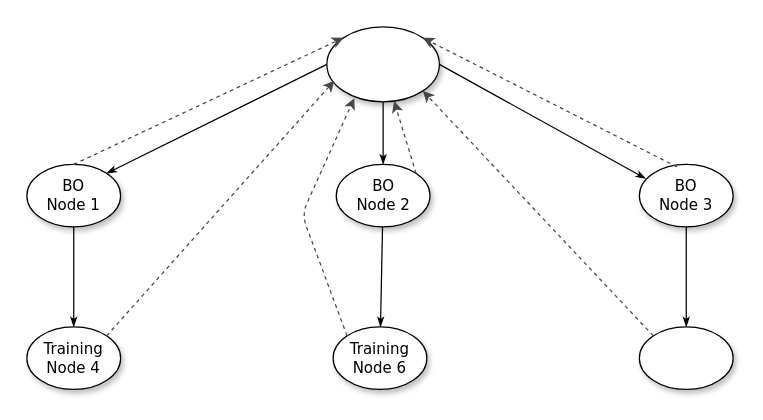
The diagram is 763 pixels wide and 420 high, and some of its shapes have lost their labels. Each missing label, with the centre of its shape:
Master Node: point (384, 66)
Training Node 7: point (687, 359)
